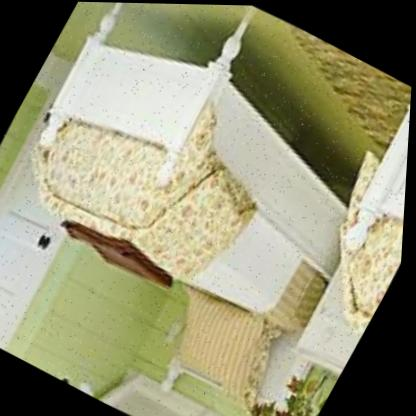Bed: (0, 0, 416, 412)
